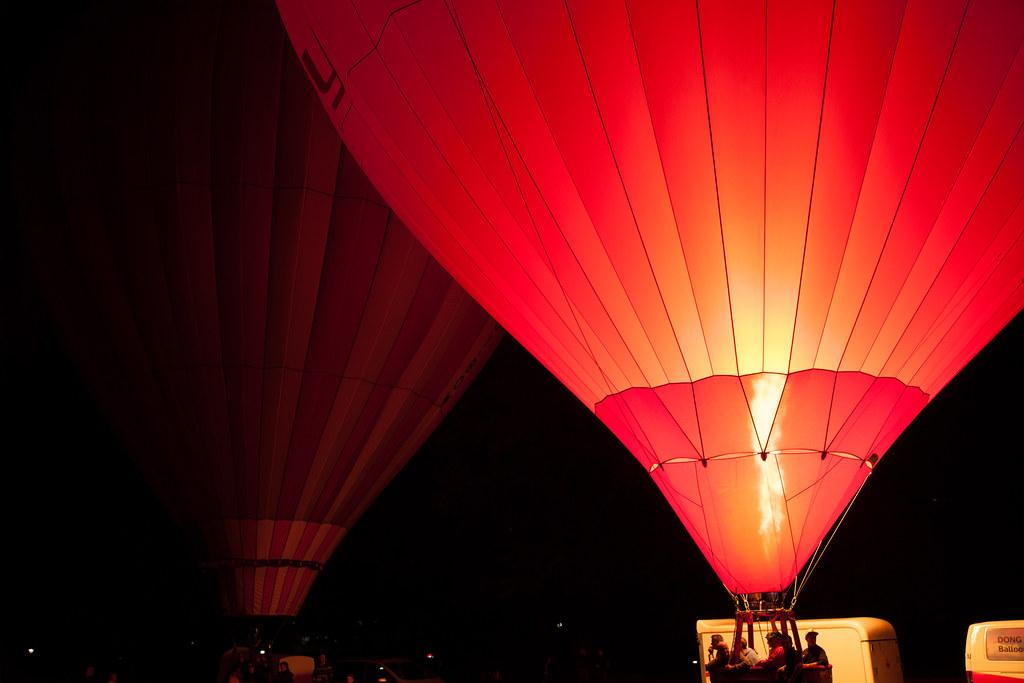balloon: (273, 2, 1024, 647)
